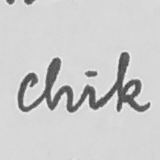c: (15, 70, 41, 114)
h: (42, 55, 75, 114)
i: (79, 67, 103, 113)
k: (111, 49, 154, 116)
